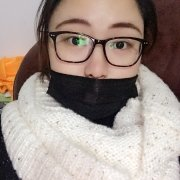face_mask: (49, 0, 141, 121)
